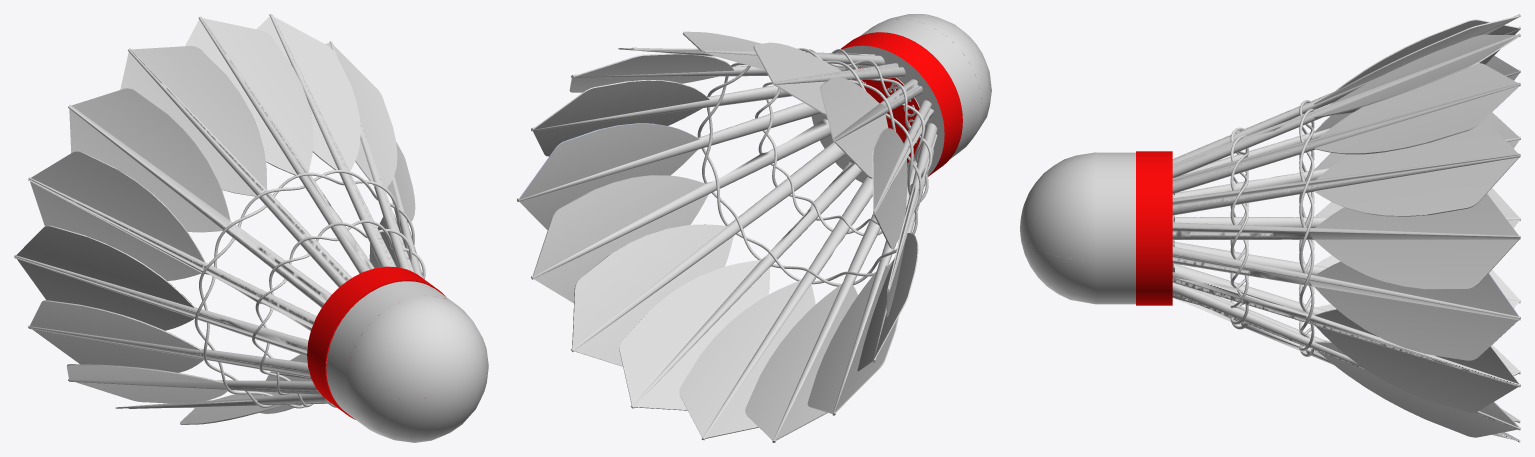
The model's file is shuttle.glb.
3 renders of one model, left to right at view 1: azimuth 30°, elevation 25°; view 2: azimuth 150°, elevation 25°; view 3: azimuth 270°, elevation 25°, orthographic.
Visible parts, largest first — view 1: uploads_files_102332_shuttlecock.IGS (×49); view 2: uploads_files_102332_shuttlecock.IGS (×58); view 3: uploads_files_102332_shuttlecock.IGS (×43).
Boxes of the visible parts, x1,y1,x2,y2 form: uploads_files_102332_shuttlecock.IGS (×49): (14, 14, 488, 442); uploads_files_102332_shuttlecock.IGS (×58): (518, 14, 991, 441); uploads_files_102332_shuttlecock.IGS (×43): (1020, 14, 1520, 442).
Size of the model in its own units: 0.0704 by 0.0704 by 0.0821.
